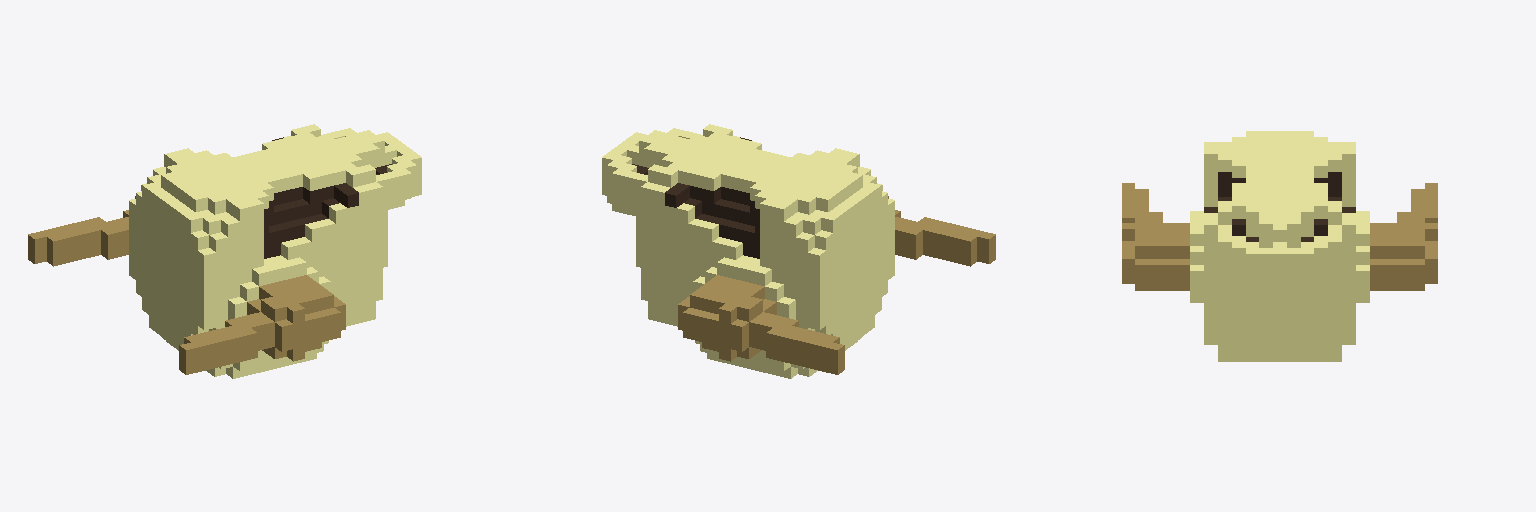
The picture shows the model from 3 angles: view 1: azimuth 30°, elevation 25°; view 2: azimuth 150°, elevation 25°; view 3: azimuth 270°, elevation 25°; orthographic projection.
Visible parts, largest first — view 1: object 1; view 2: object 1; view 3: object 1.
Boxes of the visible parts, box(x1,y1,x2,y2) form: object 1: box(28, 124, 421, 378); object 1: box(602, 124, 995, 378); object 1: box(1122, 131, 1437, 361).
Bounding box in the file's own units: 2.5 × 1.4 × 2.3.
1 materials, 1 textured.